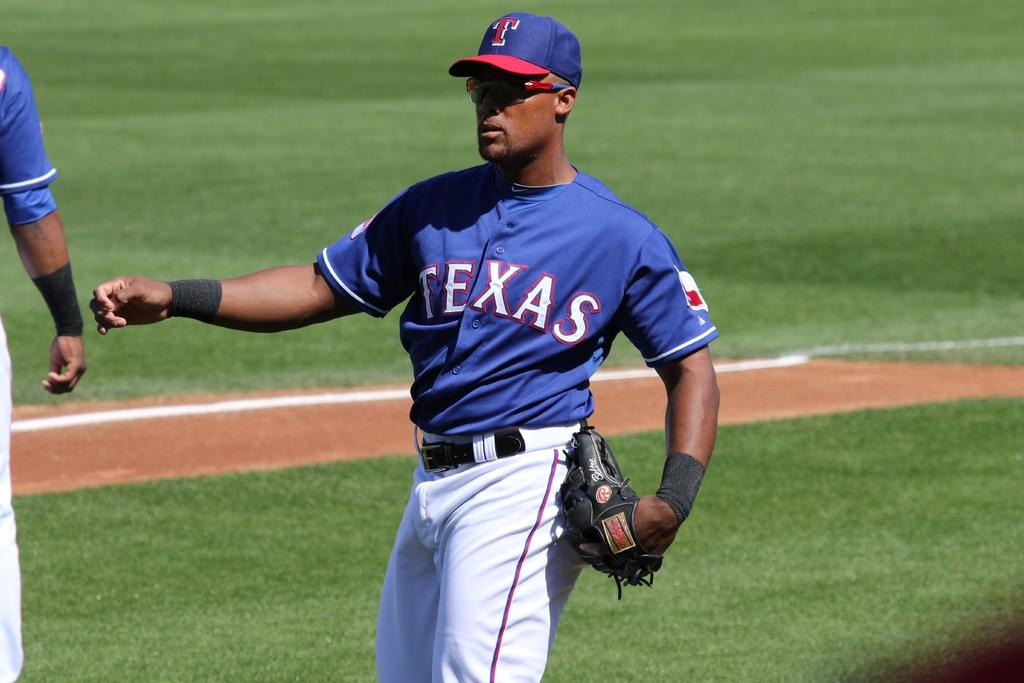Hat: (448, 14, 582, 91)
